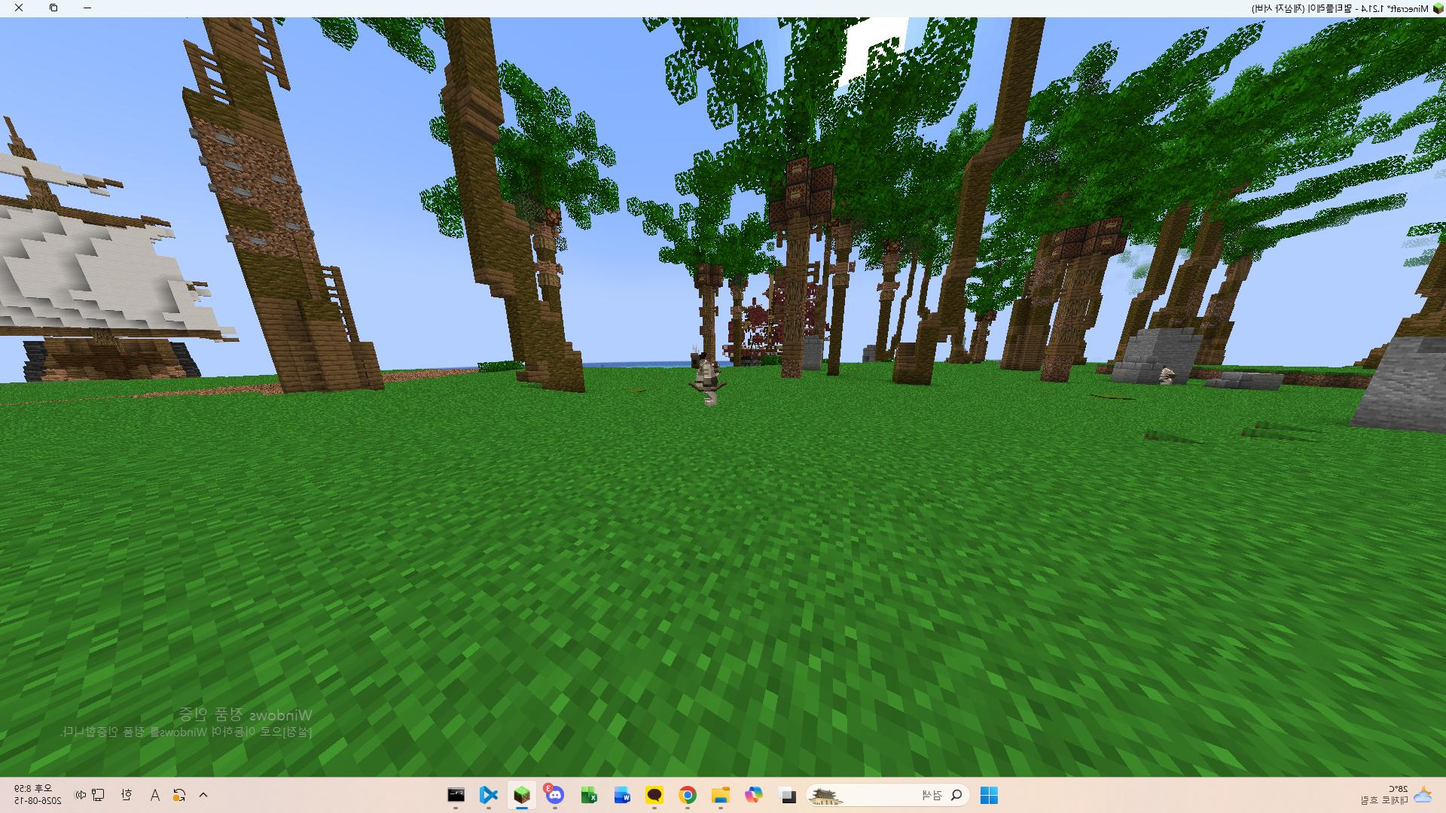bow_indian: (670, 347, 734, 417)
